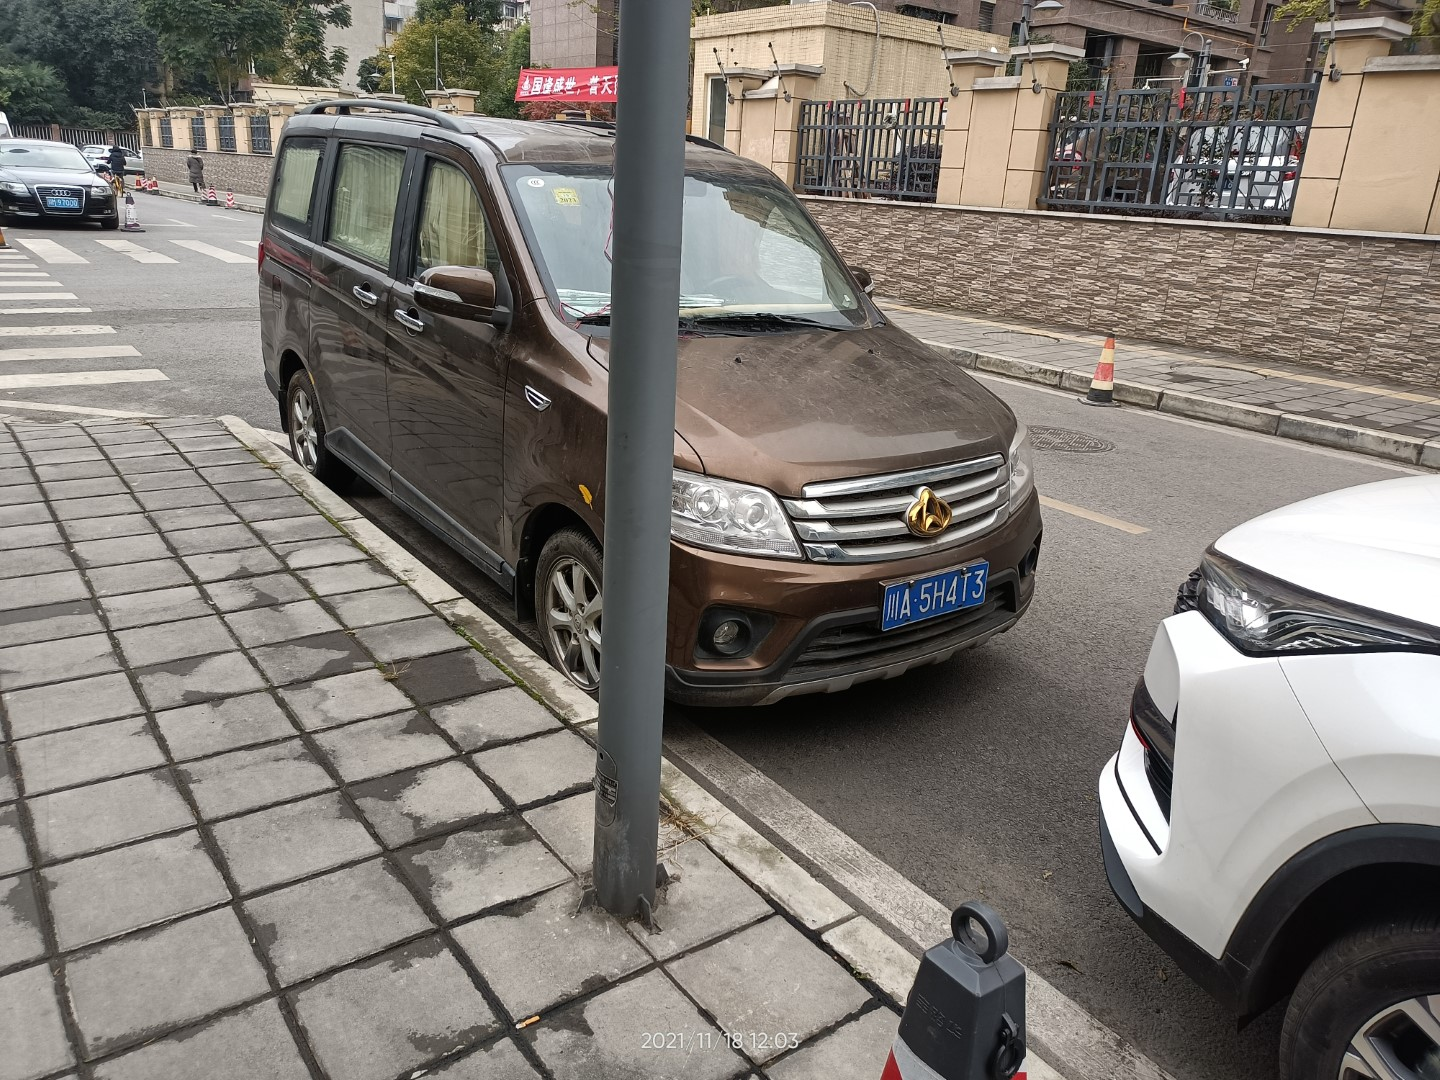plate: (883, 562, 988, 633)
